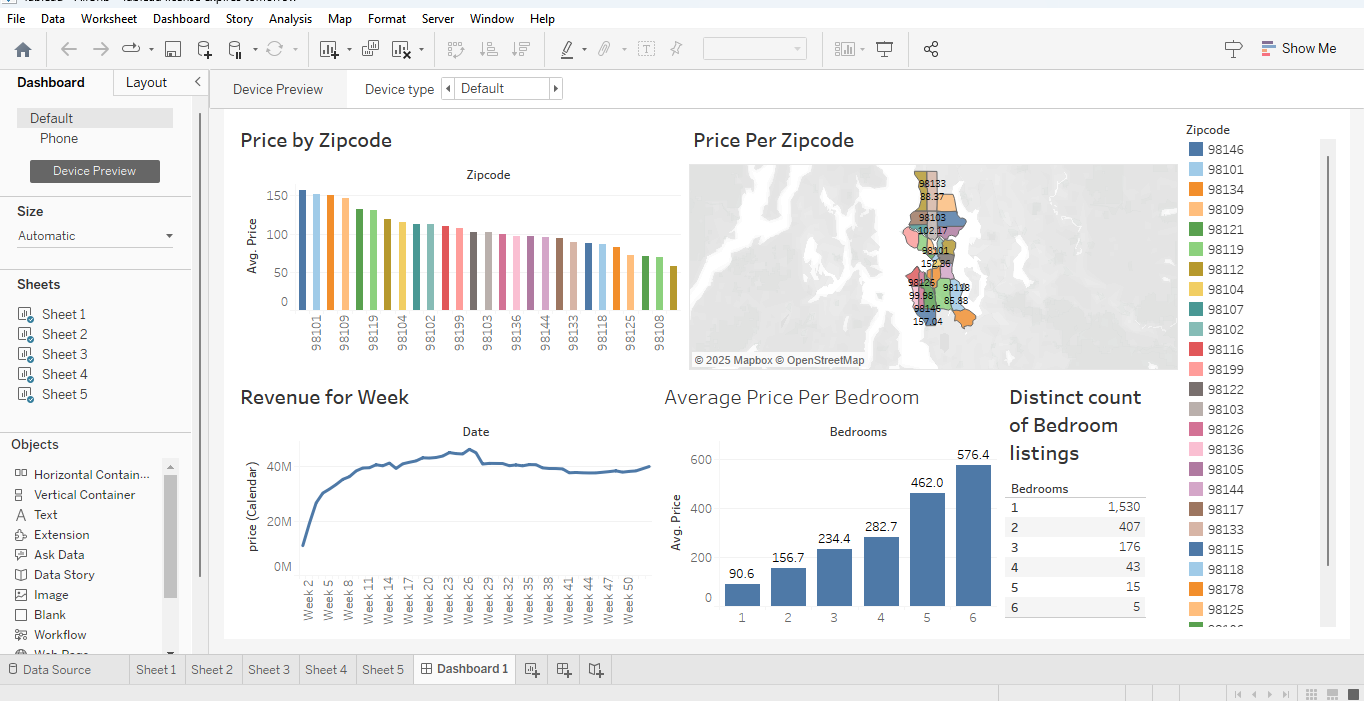

The page's visual inventory and layout, read from the dashboard file:
{"tool":"tableau","page":{"name":"Dashboard 1","canvas":[1000,1000],"units":"permille","ordinal":0},"visuals":[{"type":"worksheet","title":"Sheet 1","mark":"Automatic","rows":["price"],"cols":["zipcode"],"box":[7.1,15.1,402.3,484.9]},{"type":"worksheet","title":"Sheet 2","mark":"Multipolygon","box":[409.4,15.1,441.4,484.9]},{"type":"legend","title":"Sheet 1","param":"[federated.0jp850a0xtcivj1avk7s80jm19qs].[none:zipcode:ok]","box":[850.8,15.1,142.1,969.8]},{"type":"worksheet","title":"Sheet 3","mark":"Automatic","rows":["price (Calendar)"],"cols":["date"],"box":[7.1,500,376.6,484.9]},{"type":"worksheet","title":"Sheet 4","mark":"Automatic","rows":["price"],"cols":["bedrooms"],"box":[383.7,500,306.4,484.9]},{"type":"worksheet","title":"Sheet 5","mark":"Automatic","rows":["bedrooms"],"box":[690.1,500,160.8,484.9]}]}

Visuals, with their boxes on the dashboard's canvas, which has no fixed pixel size, in thousandths of its width and height (x1, y1, x2, y2). These are canvas units, not pixel positions in the 1364x701 screenshot, which may show the page scaled, cropped or inside an application window:
"Sheet 1" worksheet: left=7, top=15, right=409, bottom=500
"Sheet 2" worksheet (Multipolygon marks): left=409, top=15, right=851, bottom=500
"Sheet 1" legend: left=851, top=15, right=993, bottom=985
"Sheet 3" worksheet: left=7, top=500, right=384, bottom=985
"Sheet 4" worksheet: left=384, top=500, right=690, bottom=985
"Sheet 5" worksheet: left=690, top=500, right=851, bottom=985
